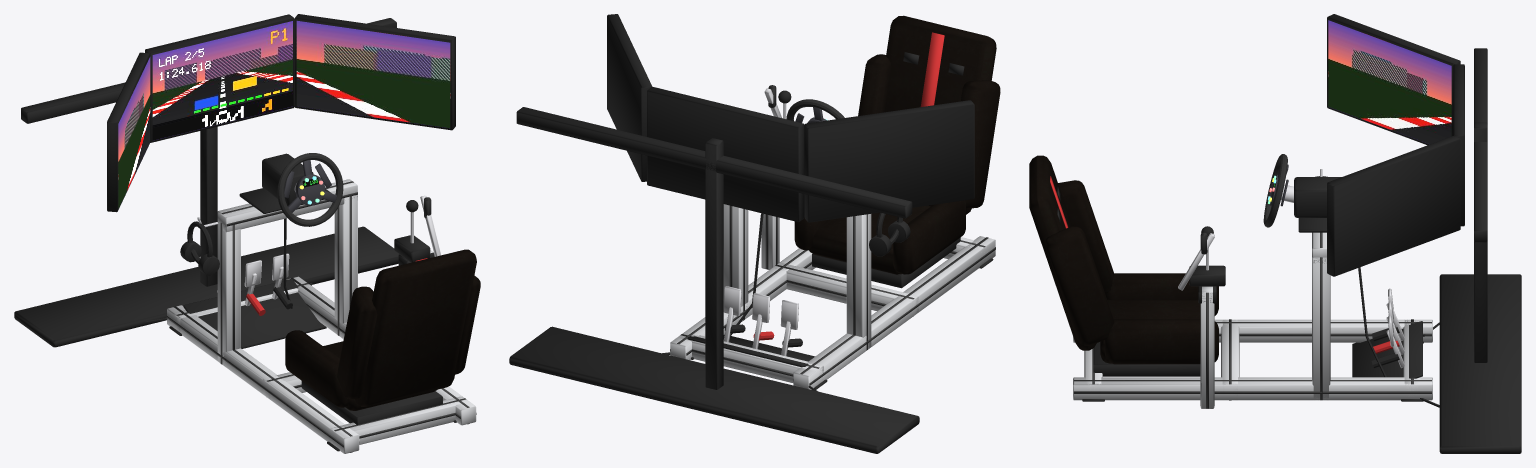
The model's file is sim_rig.glb.
3 views of the same model, side by side, from view 1: azimuth 30°, elevation 25°; view 2: azimuth 150°, elevation 25°; view 3: azimuth 270°, elevation 25° (orthographic). The views are drawn at different scales.
Visible parts, largest first — view 1: Rig black, Seat fabric, Profile aluminum, Screen.002, Screen, Monitor bezel, Profile slot, Screen.001, Wheel grip, Pedal steel, Carbon; view 2: Rig black, Monitor bezel, Seat fabric, Profile aluminum, Profile slot, Pedal steel, Accent red, Wheel grip; view 3: Rig black, Seat fabric, Monitor bezel, Profile aluminum, Screen.001, Profile slot, Pedal steel, Wheel grip.
Part boxes in pixels (x1,y1,x2,y2): Rig black: [14, 18, 456, 451]; Seat fabric: [285, 249, 480, 410]; Profile aluminum: [167, 179, 476, 453]; Screen.002: [296, 20, 450, 128]; Screen: [152, 21, 292, 140]; Monitor bezel: [107, 14, 455, 212]; Profile slot: [166, 181, 476, 452]; Screen.001: [118, 57, 150, 208]; Wheel grip: [277, 153, 431, 226]; Pedal steel: [197, 183, 440, 305]; Carbon: [284, 160, 336, 212]; Rig black: [509, 52, 993, 453]; Monitor bezel: [607, 14, 974, 222]; Seat fabric: [794, 15, 1000, 274]; Profile aluminum: [670, 204, 995, 389]; Profile slot: [670, 205, 995, 385]; Pedal steel: [723, 88, 798, 356]; Accent red: [753, 32, 944, 340]; Wheel grip: [768, 85, 844, 120]; Rig black: [1057, 48, 1521, 453]; Seat fabric: [1029, 155, 1218, 364]; Monitor bezel: [1327, 14, 1464, 276]; Profile aluminum: [1073, 232, 1432, 408]; Screen.001: [1328, 20, 1451, 144]; Profile slot: [1074, 232, 1431, 408]; Pedal steel: [1178, 169, 1404, 368]; Wheel grip: [1200, 154, 1287, 254].
Size of the model in its own units: 1.9 by 1.32 by 2.16.
Materials: 17 (5 with a texture image).
